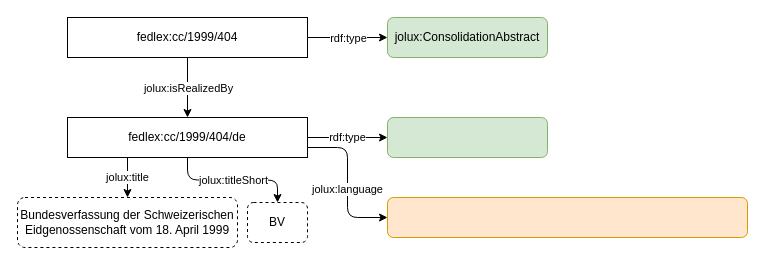
This 765x265 diagram has some shape labels left out. The centre of each missing label's shape, as x and y in pixels:
http://publications.europa.eu/resource/authority/language/DEU: pixel 567 217
jolux:Expression: pixel 467 137
